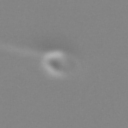normal: (1, 41, 45, 60)
